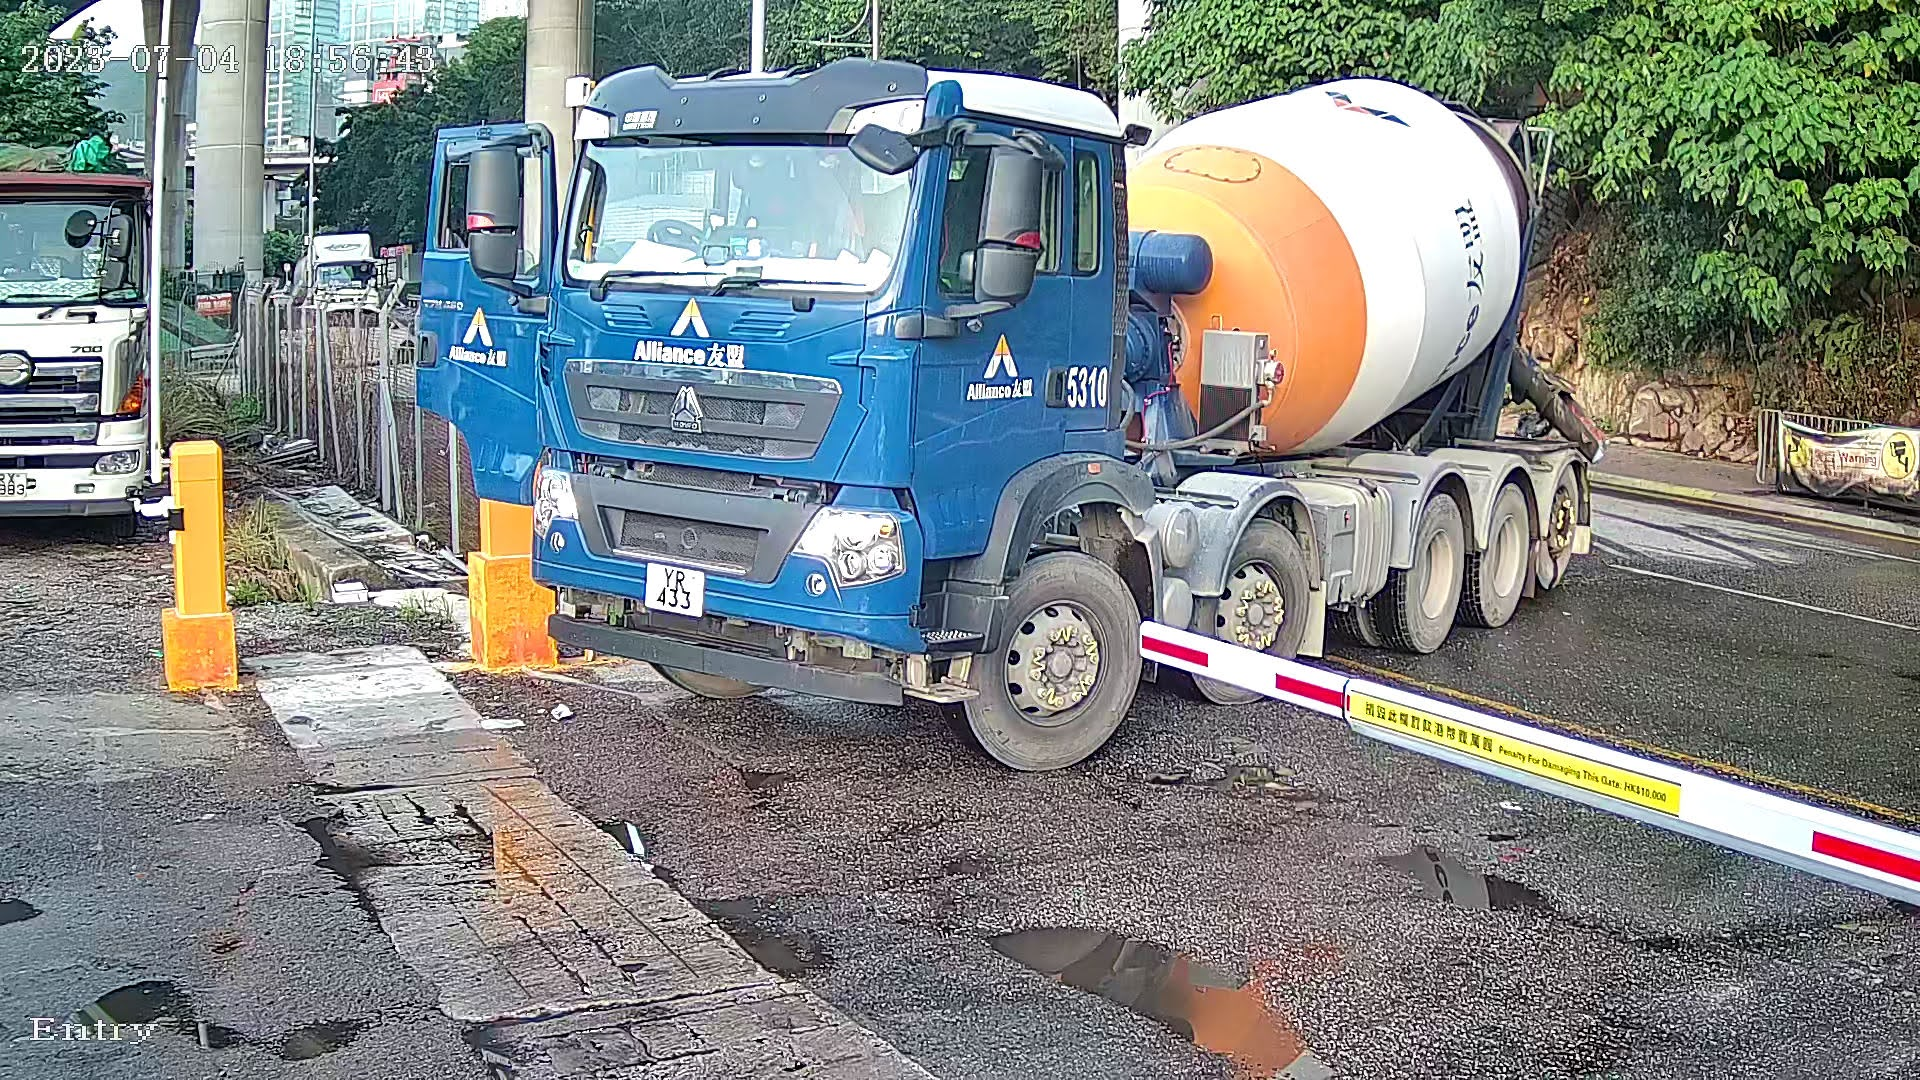truck: (378, 34, 1598, 815)
